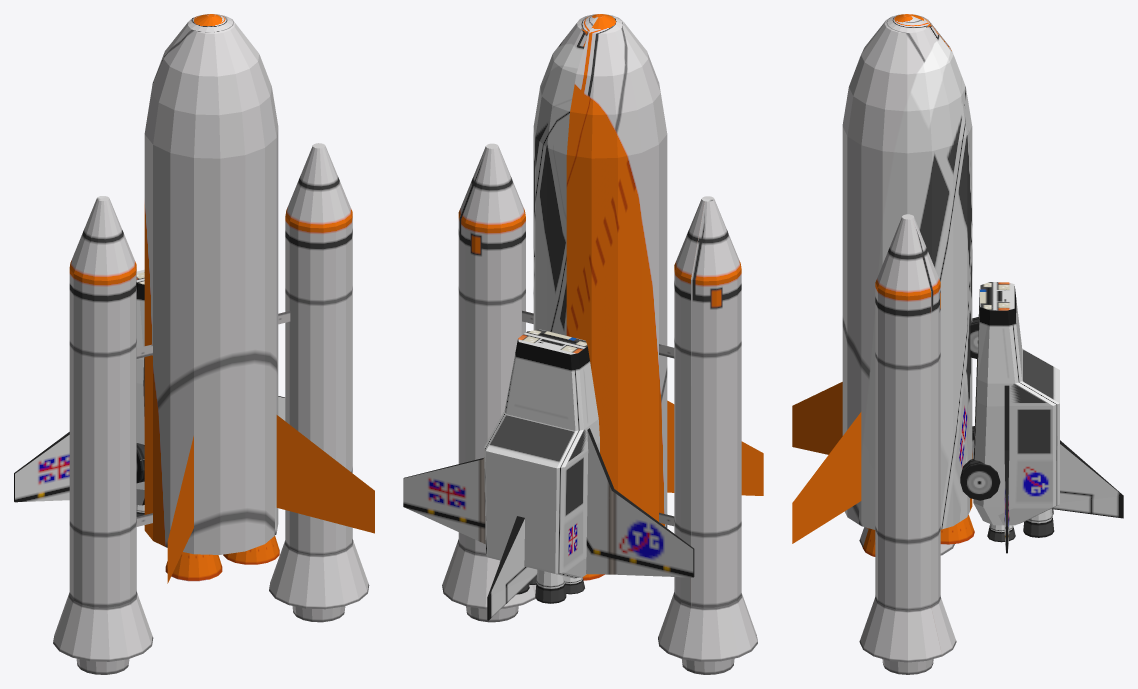
File: missile_shuttle.obj
The picture shows the model from 3 angles, left to right: view 1: azimuth 30°, elevation 25°; view 2: azimuth 150°, elevation 25°; view 3: azimuth 270°, elevation 25°; orthographic projection. The views are drawn at different scales.
Visible parts, largest first — view 1: Cylinder, Cylinder.003, Cylinder.002, Cube_Cube.001, Cylinder.001; view 2: Cylinder, Cube_Cube.001, Cylinder.003, Cylinder.002; view 3: Cylinder, Cylinder.002, Cube_Cube.001, Cylinder.001.
Boxes of the visible parts, <box> form: Cylinder: <box>144,14,374,583</box>; Cylinder.003: <box>53,196,153,674</box>; Cylinder.002: <box>269,143,369,622</box>; Cube_Cube.001: <box>14,269,285,516</box>; Cylinder.001: <box>165,536,279,581</box>; Cylinder: <box>533,14,763,527</box>; Cube_Cube.001: <box>403,329,694,620</box>; Cylinder.003: <box>658,196,757,674</box>; Cylinder.002: <box>442,143,536,622</box>; Cylinder: <box>792,14,972,543</box>; Cylinder.002: <box>859,214,956,674</box>; Cube_Cube.001: <box>960,282,1123,553</box>; Cylinder.001: <box>863,514,974,556</box>.
Size of the model in its own units: 6.48 by 12.69 by 6.37.
